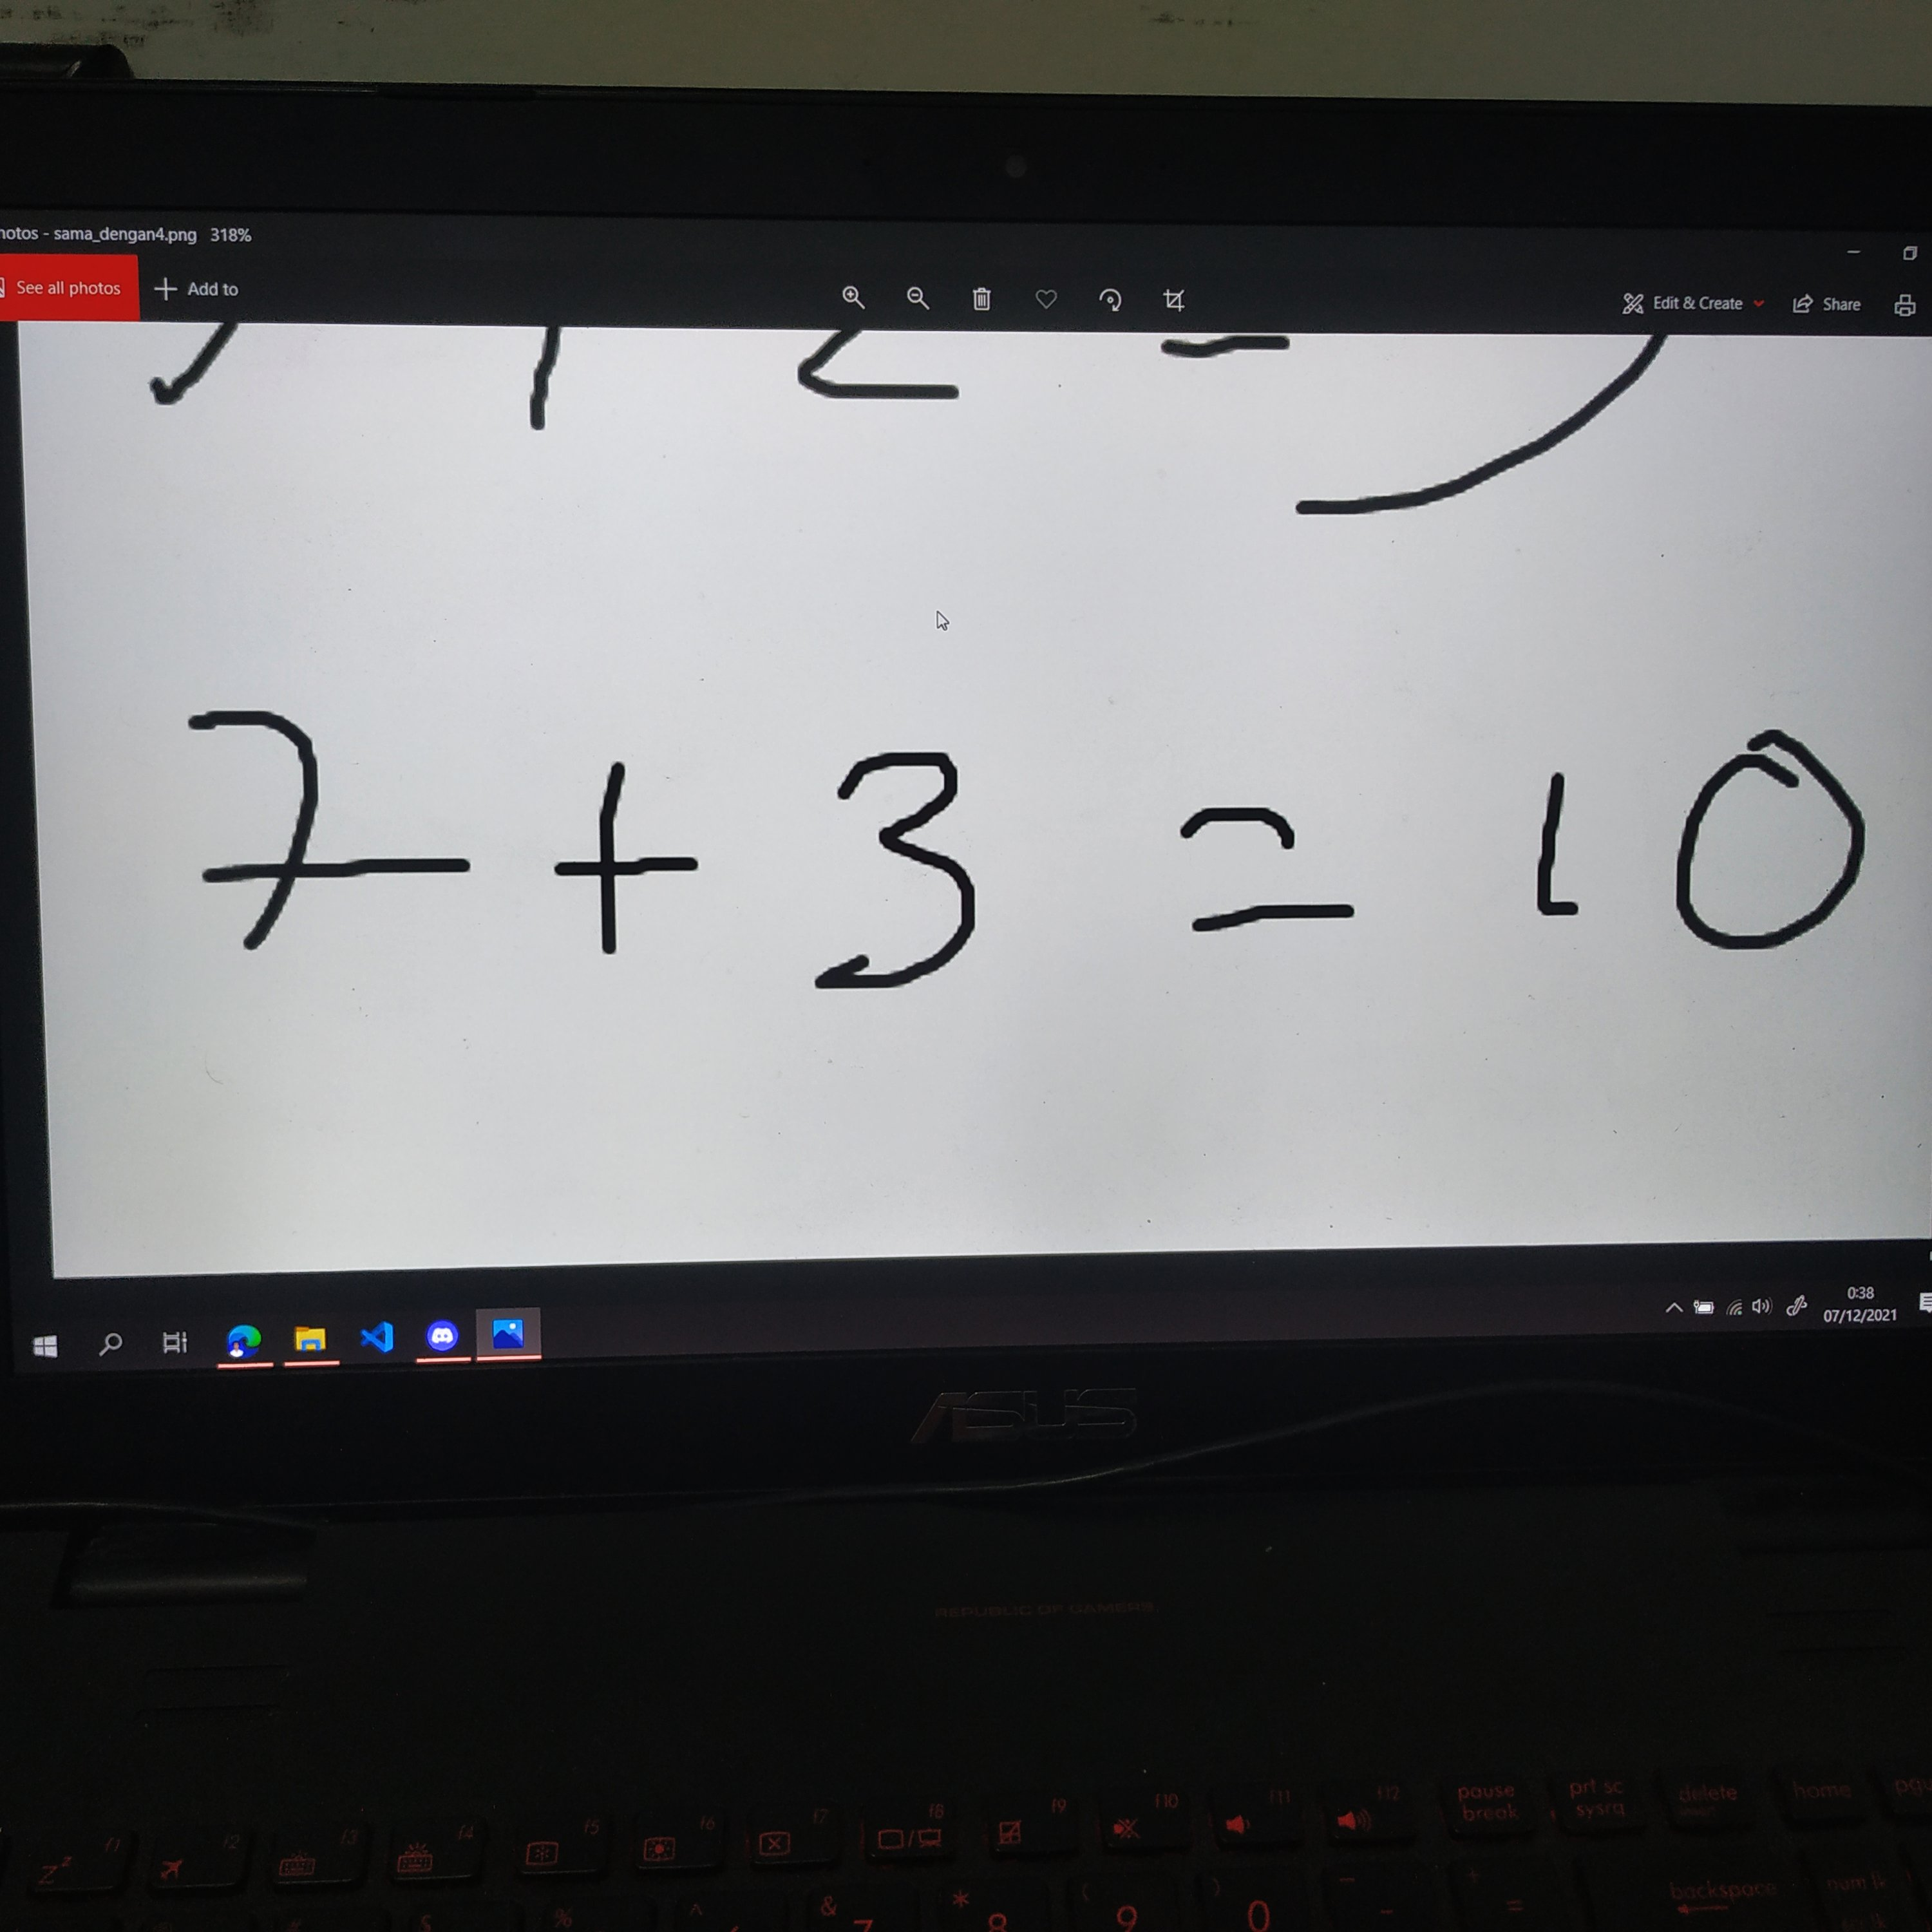equal: (1141, 773, 1399, 970)
num0: (1672, 714, 1874, 976)
num1: (1499, 750, 1608, 941)
num3: (788, 733, 1010, 1016)
num7: (150, 683, 493, 968)
sum: (530, 739, 723, 982)
